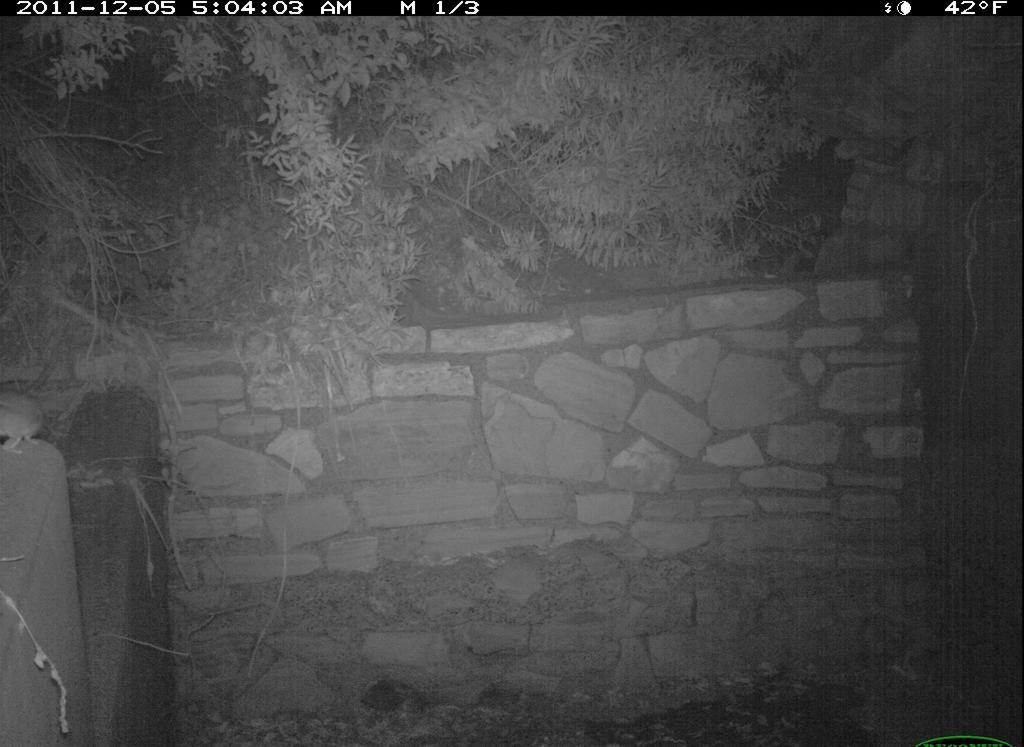rodent: (1, 386, 51, 461)
